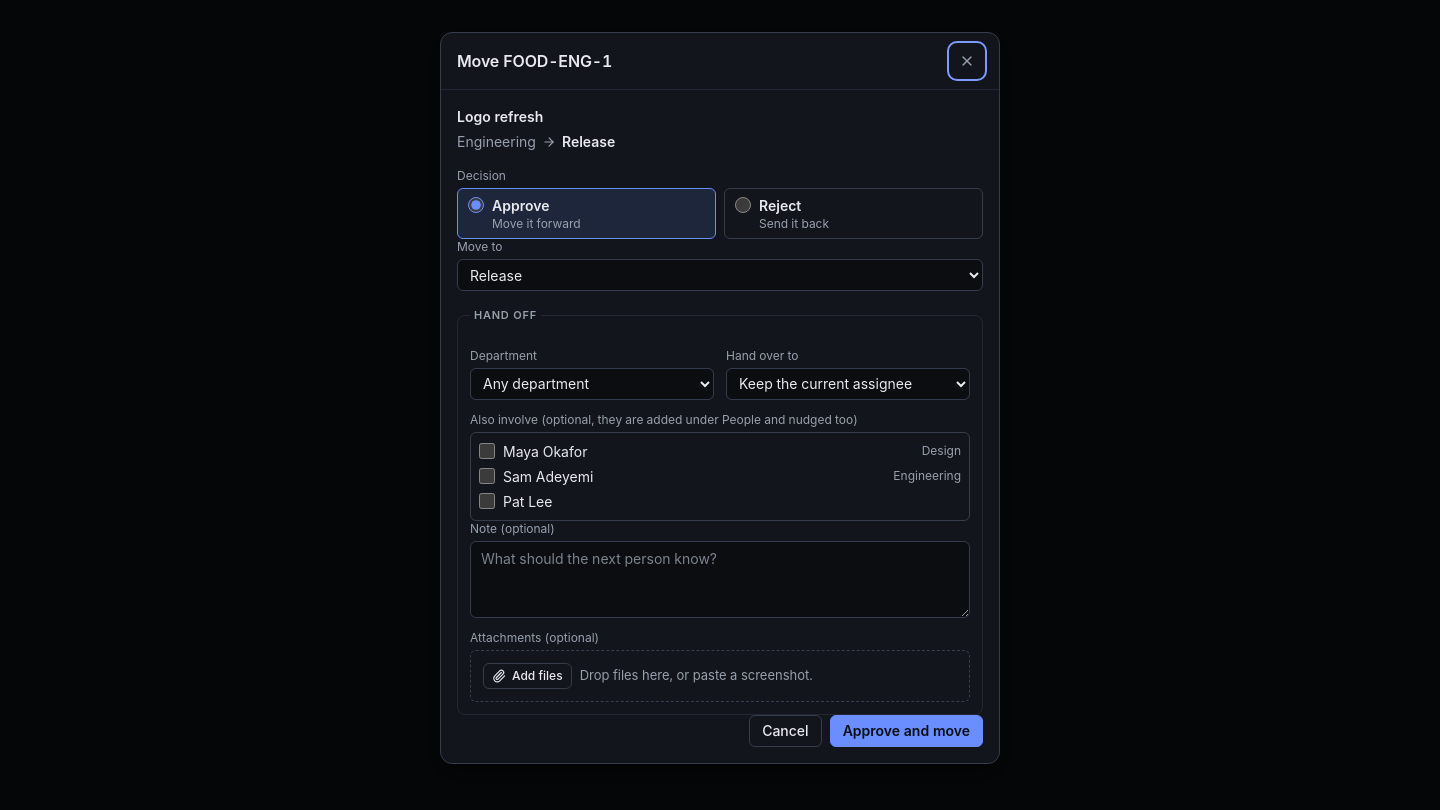
Test: the handoff dialog for a feature on a pipeline › needs a reason to send a feature back to an earlier phase
The image size is (1440, 810).
Later steps or results of the test are not shown.
Check: the text with test id "current-status" is shown, box x1=457 y1=131 x2=536 y2=152
Click the radio button labelled "Reject Send it back" at {"x": 743, "y": 205}, box x1=735 y1=197 x2=751 y2=213
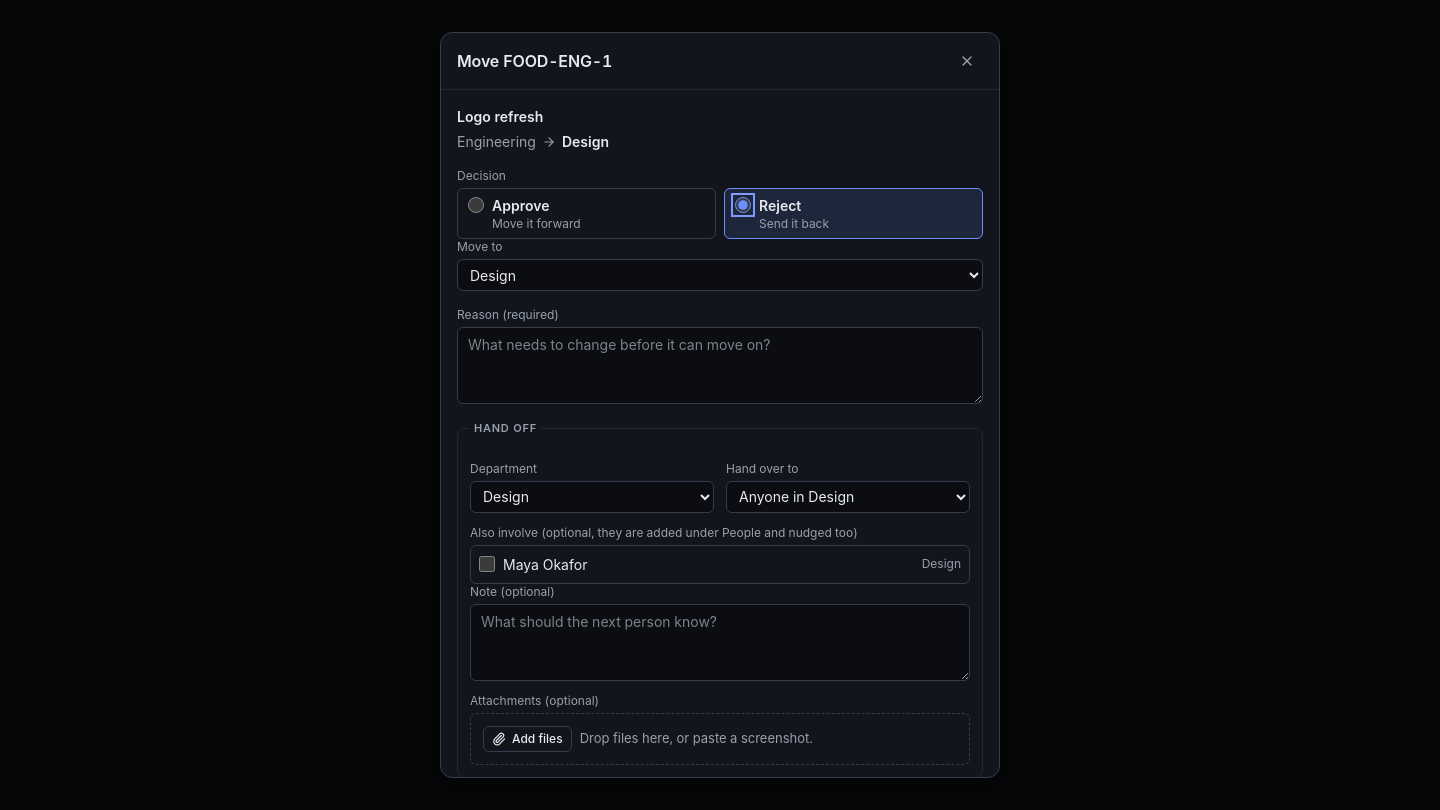
Check: the text with test id "next-status" reads "Design", box x1=562 y1=133 x2=609 y2=150
